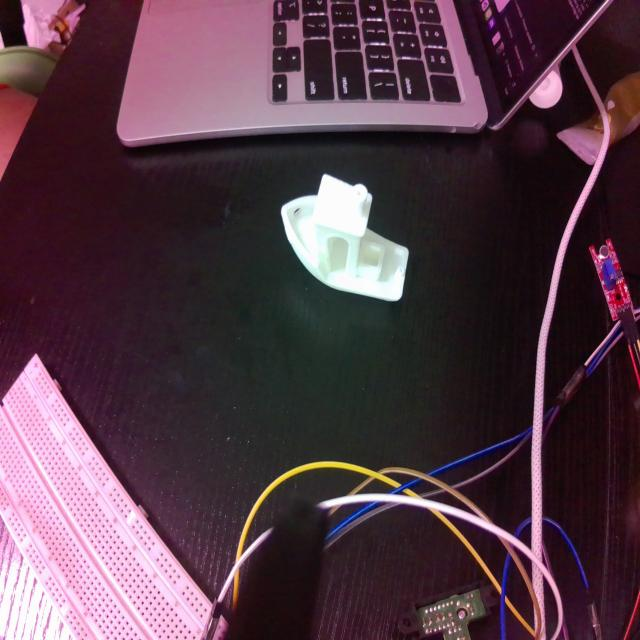ship: (281, 172, 410, 306)
